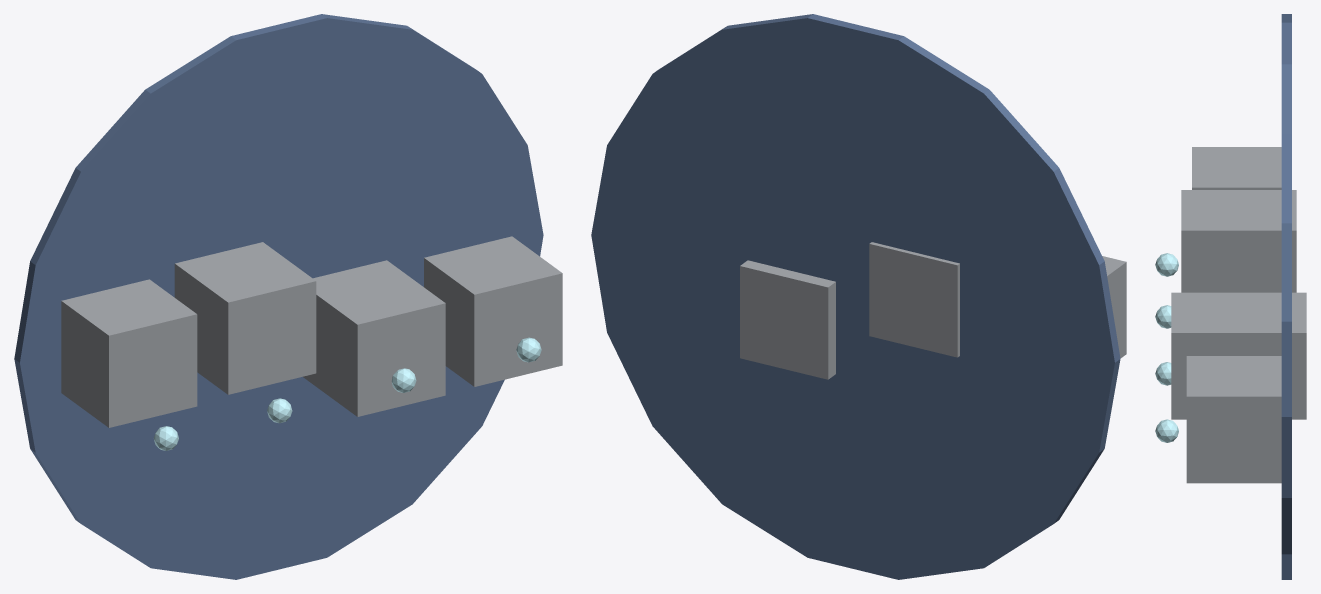
Rendered from 03_ambient_object_cluster.glb.
3 views of the same model, side by side, from view 1: azimuth 30°, elevation 25°; view 2: azimuth 150°, elevation 25°; view 3: azimuth 270°, elevation 25° (orthographic). The views are drawn at different scales.
Visible parts, largest first — view 1: scatter_base, tech_crate_0, tech_crate_2, tech_crate_1, tech_crate_3; view 2: scatter_base, tech_crate_2, tech_crate_1, tech_crate_0; view 3: tech_crate_3, tech_crate_1, tech_crate_2, scatter_base, tech_crate_0, status_light_0, status_light_3, status_light_1, status_light_2.
Part boxes in pixels (x1,y1,x2,y2): scatter_base: (14,14,543,579); tech_crate_0: (61,279,197,427); tech_crate_2: (303,260,445,416); tech_crate_1: (174,242,316,394); tech_crate_3: (424,236,562,386); scatter_base: (591,14,1120,579); tech_crate_2: (740,260,835,379); tech_crate_1: (869,242,959,357); tech_crate_0: (1102,256,1126,358); tech_crate_3: (1186,356,1281,483); tech_crate_1: (1181,190,1296,292); tech_crate_2: (1171,292,1306,419); scatter_base: (1281,14,1291,579); tech_crate_0: (1192,147,1281,189); status_light_0: (1155,253,1178,276); status_light_3: (1155,419,1178,442); status_light_1: (1155,305,1171,328); status_light_2: (1155,362,1171,385).
Bounding box in the file's own units: 1.9 × 1.87 × 0.5066.
